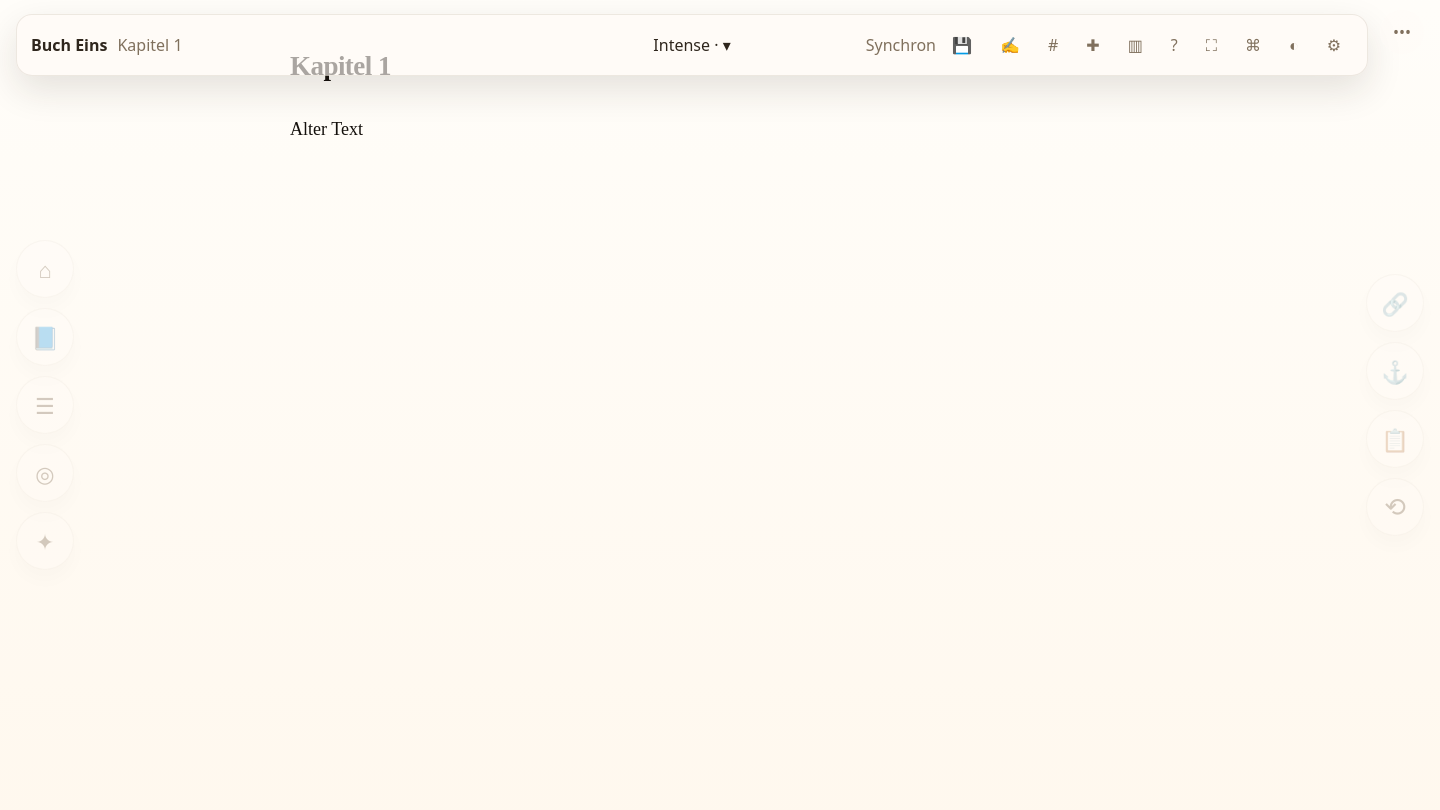
Test: App editor smoke test › shows calm proofing summary and filters review plus timeline entries
Click the button named "Revisionen": (1395, 507) [1366,478,1424,536]
(page scrolled)
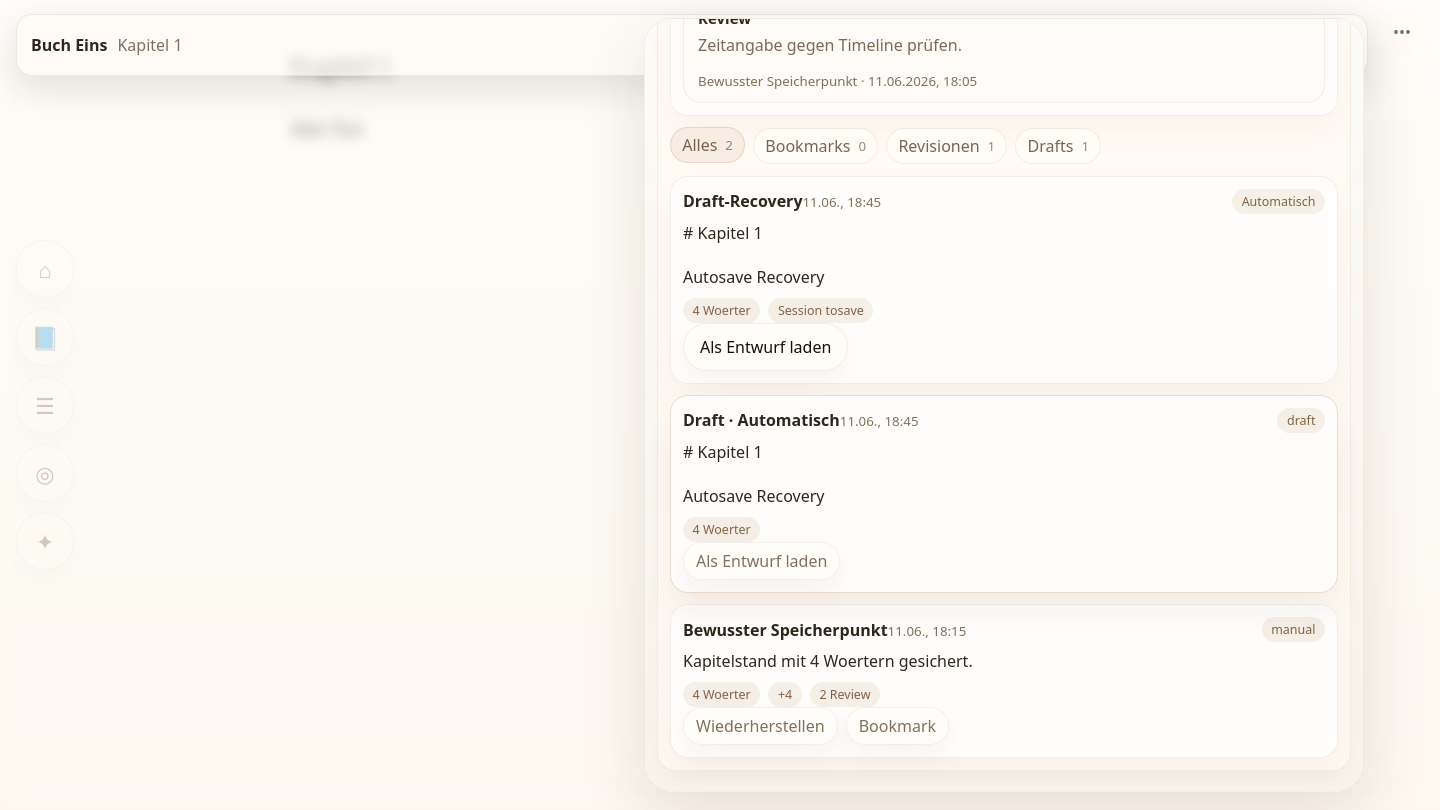
Click the button "Bewusster Speicherpunkt": (785, 630) [670,604,1338,758]
(page scrolled)
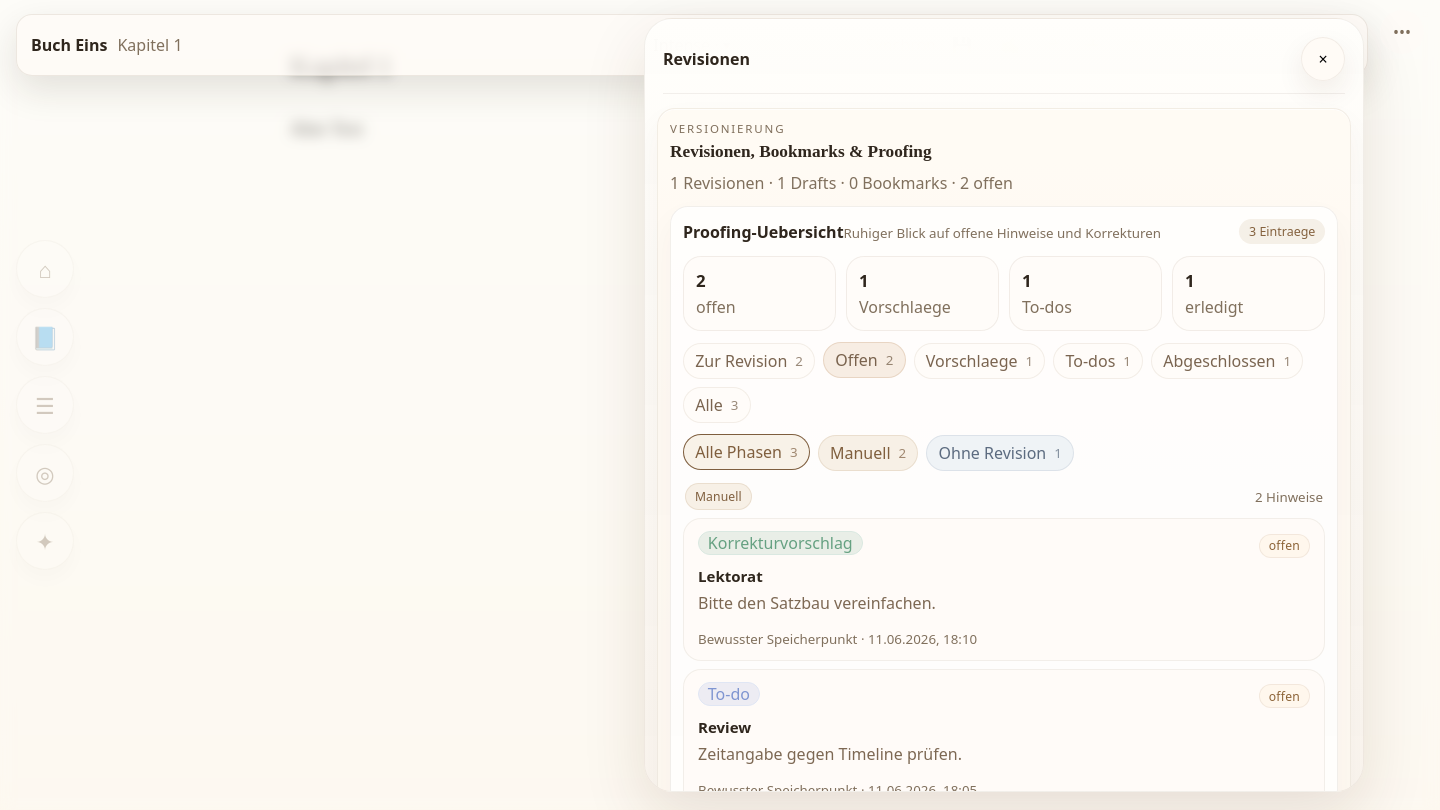
Expected: the button "Zur Revision 2" is shown, [683,343,815,379]
Expected: the button "Vorschlaege 1" is shown, [914,343,1045,379]
Expected: the button "To-dos 1" is shown, [1053,343,1143,379]
Click the button "Abgeschlossen 1": (1227, 361) [1151,343,1303,379]
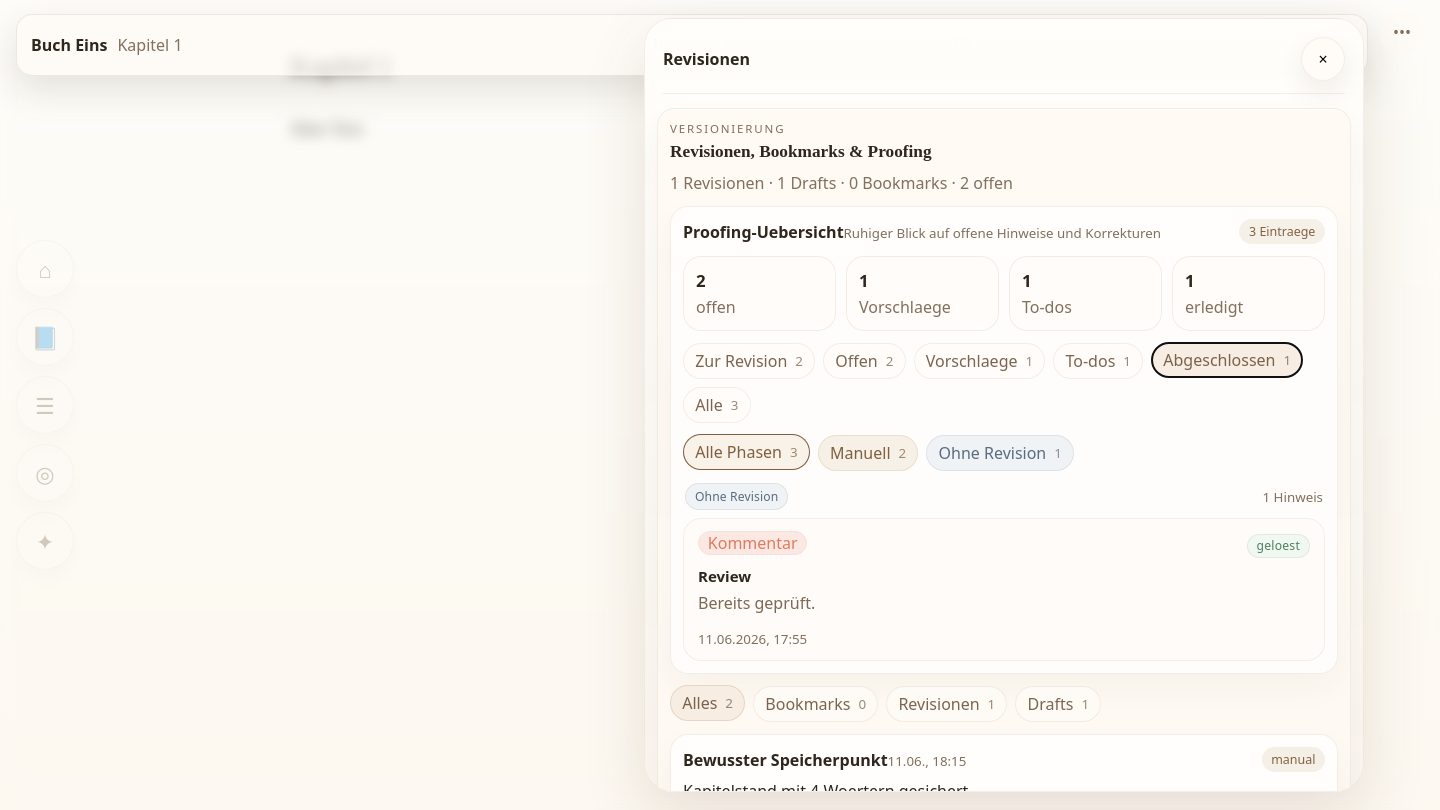
Expected: the text "Bereits geprüft." is shown, [698,592,815,614]
Click the button "Drafts 1": (1058, 704) [1015,686,1101,722]
(page scrolled)
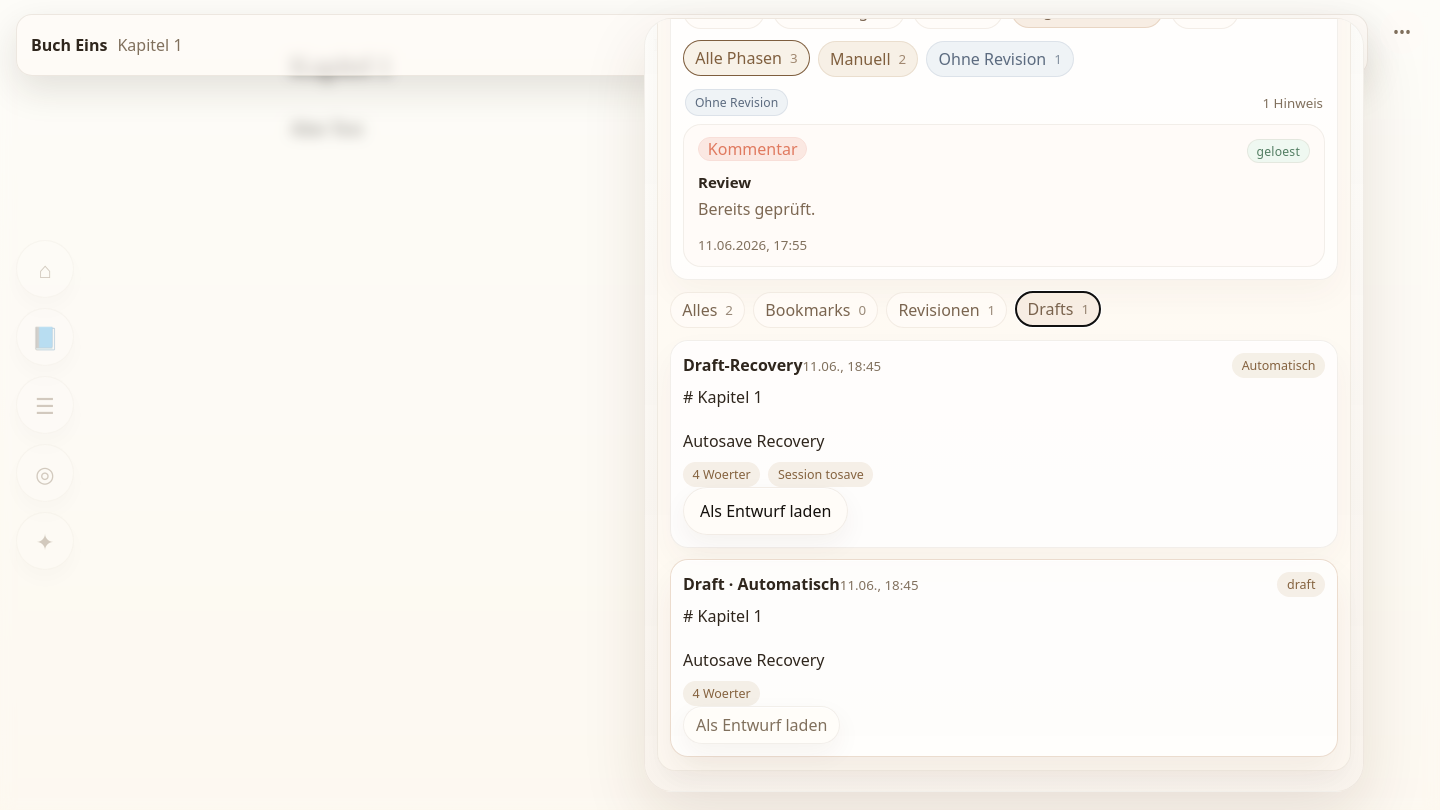
Expected: the text "Draft · Automatisch" is shown, [683,573,840,595]
Expected: the text "Bewusster Speicherpunkt" is gone
